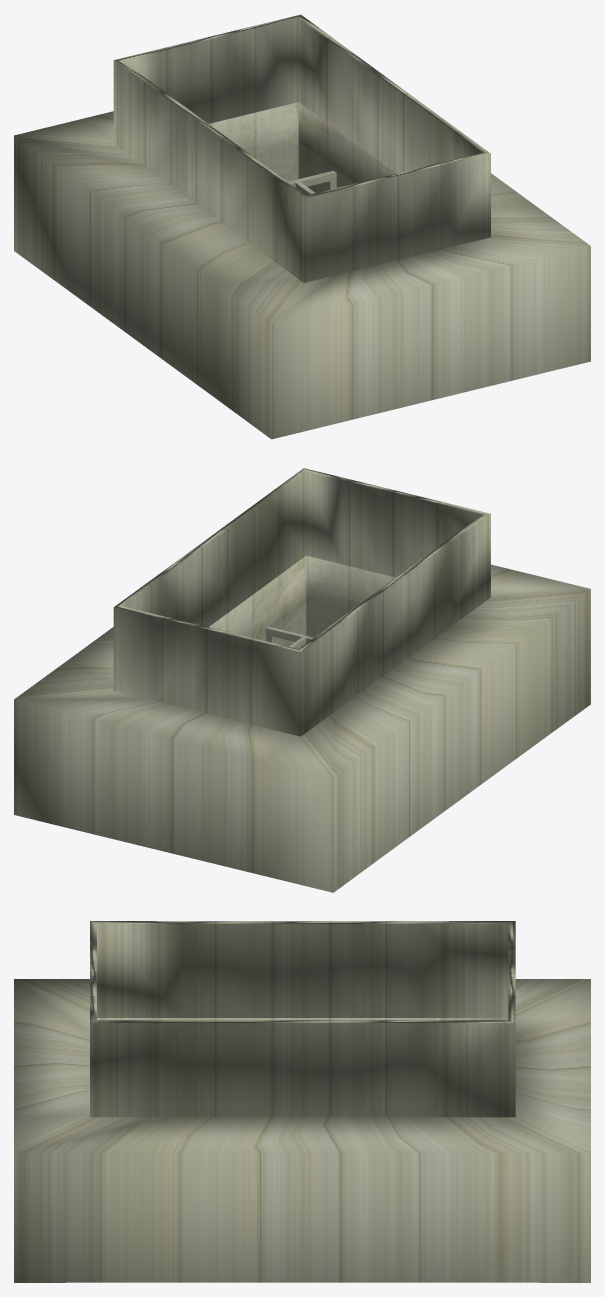
The model's file is SM_LDFest_28_00.fbx.
The picture shows the model from 3 angles, top to bottom: view 1: azimuth 30°, elevation 25°; view 2: azimuth 150°, elevation 25°; view 3: azimuth 270°, elevation 25°; orthographic projection. The views are drawn at different scales.
Parts seen in each view (by area): view 1: SM_LDFest_28_00, SM_LDFest_28_00.001; view 2: SM_LDFest_28_00, SM_LDFest_28_00.001; view 3: SM_LDFest_28_00, SM_LDFest_28_00.001.
Part boxes in pixels (x1,y1,x2,y2): SM_LDFest_28_00: [14, 102, 590, 439]; SM_LDFest_28_00.001: [113, 14, 490, 282]; SM_LDFest_28_00: [14, 555, 590, 892]; SM_LDFest_28_00.001: [113, 468, 490, 736]; SM_LDFest_28_00: [14, 979, 590, 1282]; SM_LDFest_28_00.001: [90, 921, 515, 1117].
Size of the model in its own units: 3365 by 2006 by 4697.
